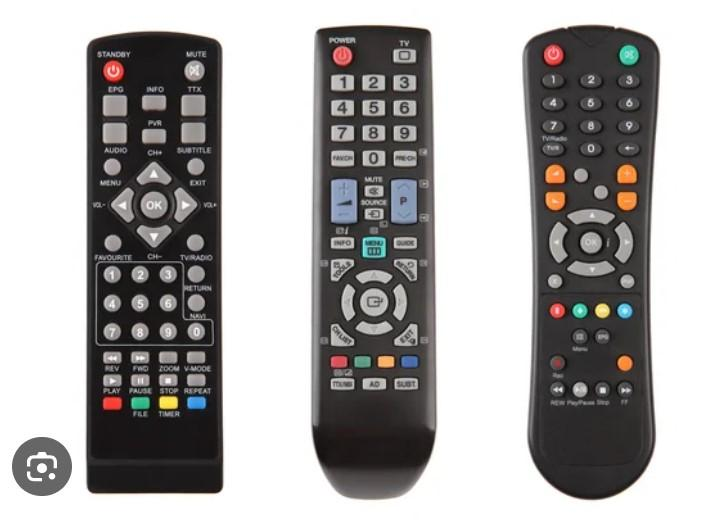Remote control: (82, 31, 226, 497), (523, 24, 662, 503), (311, 25, 440, 503)
